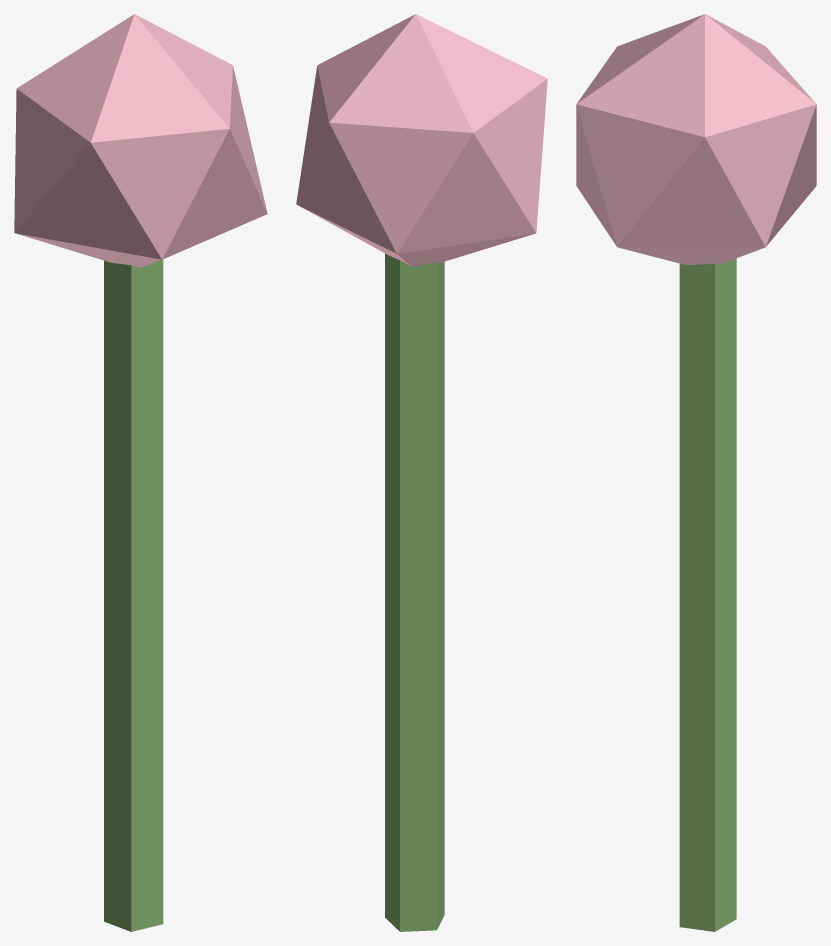
File: flower.fbx
3 renders of one model, left to right at view 1: azimuth 30°, elevation 25°; view 2: azimuth 150°, elevation 25°; view 3: azimuth 270°, elevation 25°, orthographic.
Parts seen in each view (by area): view 1: Head, Stem; view 2: Head, Stem; view 3: Head, Stem.
Part boxes in pixels (x1=…): Head: x1=14, y1=14, x2=267, y2=267; Stem: x1=104, y1=259, x2=163, y2=931; Head: x1=296, y1=14, x2=547, y2=266; Stem: x1=385, y1=253, x2=444, y2=931; Head: x1=576, y1=14, x2=816, y2=265; Stem: x1=679, y1=258, x2=736, y2=931.
Size of the model in its own units: 0.161 by 0.6364 by 0.1531.
